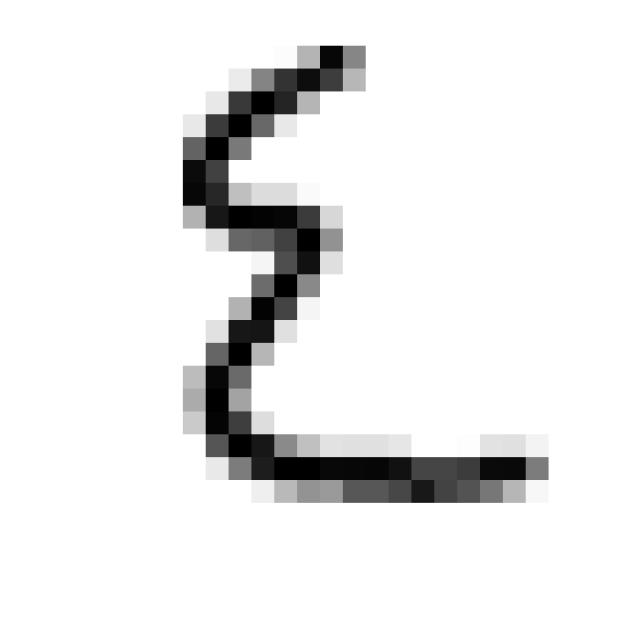4 -four-: (162, 14, 562, 525)
